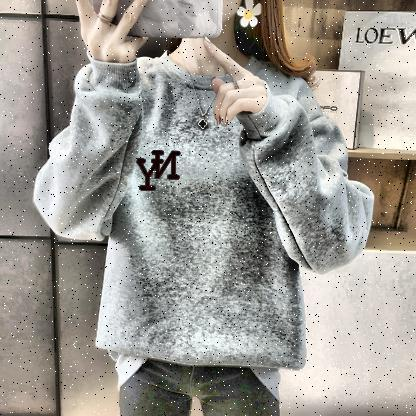sweater: (30, 52, 375, 372)
trousers: (115, 349, 282, 416)
